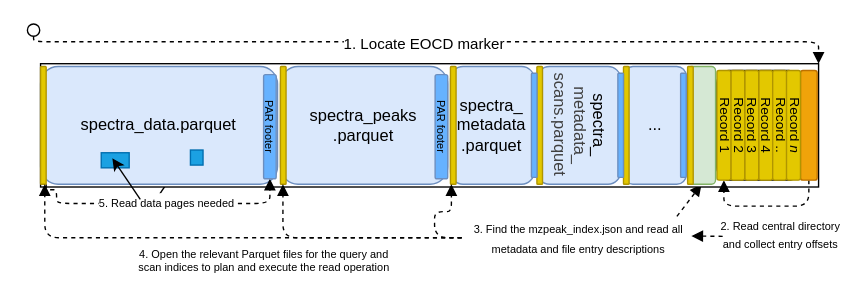
Some shapes in this 864 by 296 pixel diagram are drawn without their labels. Here are the shapes that lost their labels. From the top down, the centre of each, then its label:
At point 701,124: "mzpeak_index.json".
At point 808,124: "EOCD".
